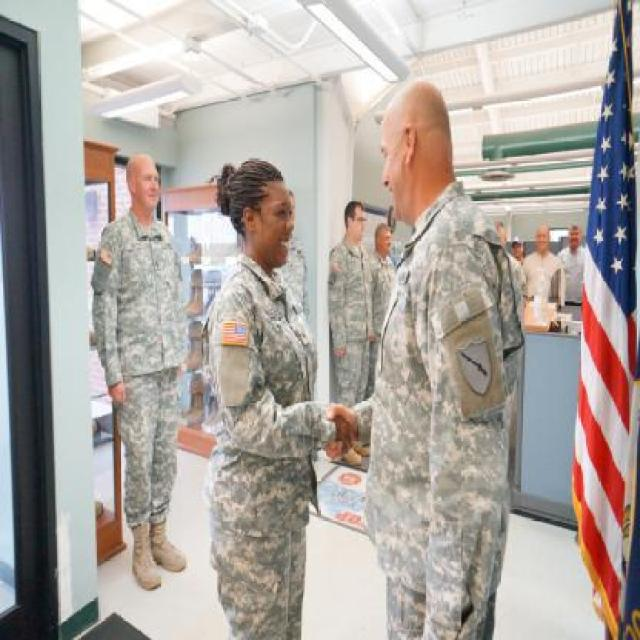Person: (198, 76, 588, 638), (90, 133, 188, 605)
